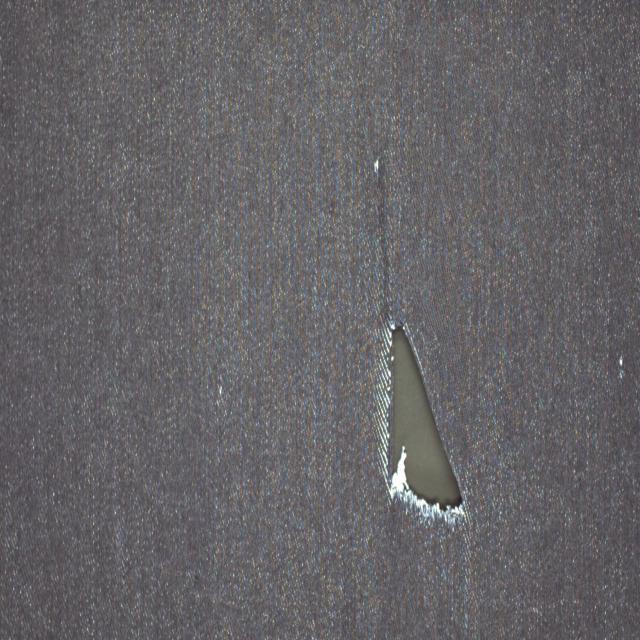Hole: (374, 320, 473, 531)
